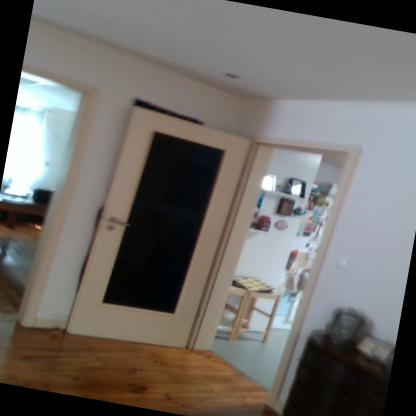open: (52, 81, 378, 415)
